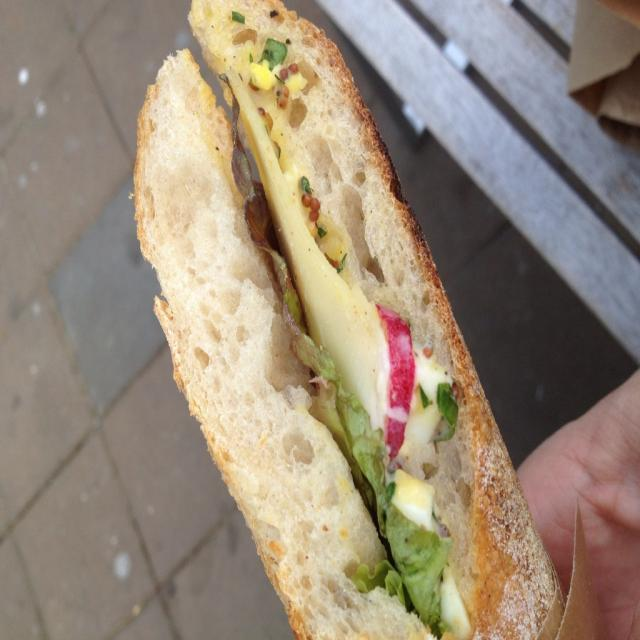Bread: (128, 46, 432, 640)
